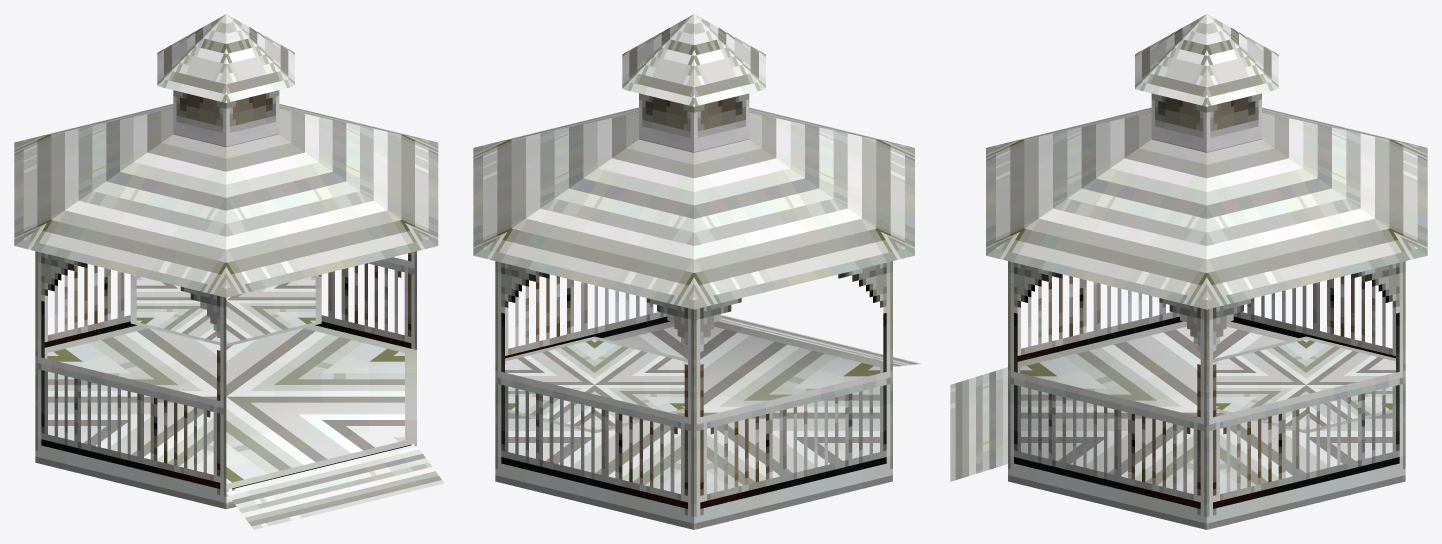
File: Environment - Prop - Pavilion - PMPavilion.glb
The picture shows the model from 3 angles, left to right: view 1: azimuth 30°, elevation 25°; view 2: azimuth 150°, elevation 25°; view 3: azimuth 270°, elevation 25°; orthographic projection. The views are drawn at different scales.
Parts seen in each view (by area): view 1: PMPAVILION; view 2: PMPAVILION; view 3: PMPAVILION.
Part boxes in pixels (x1,y1,x2,y2): PMPAVILION: (14, 14, 444, 529); PMPAVILION: (473, 14, 920, 529); PMPAVILION: (950, 14, 1427, 529).
Bounding box in the file's own units: 24.38 × 22.12 × 22.82.
Materials: 1 (1 with a texture image).
